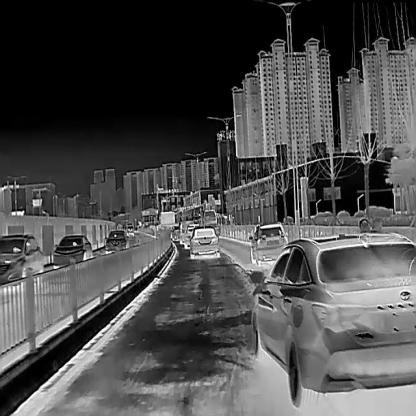bus: (159, 211, 174, 229)
car: (250, 230, 416, 408), (0, 233, 44, 291), (248, 222, 288, 266), (52, 233, 92, 270), (190, 226, 218, 257), (104, 229, 129, 254), (183, 223, 199, 249), (178, 219, 194, 243), (202, 208, 216, 227)
